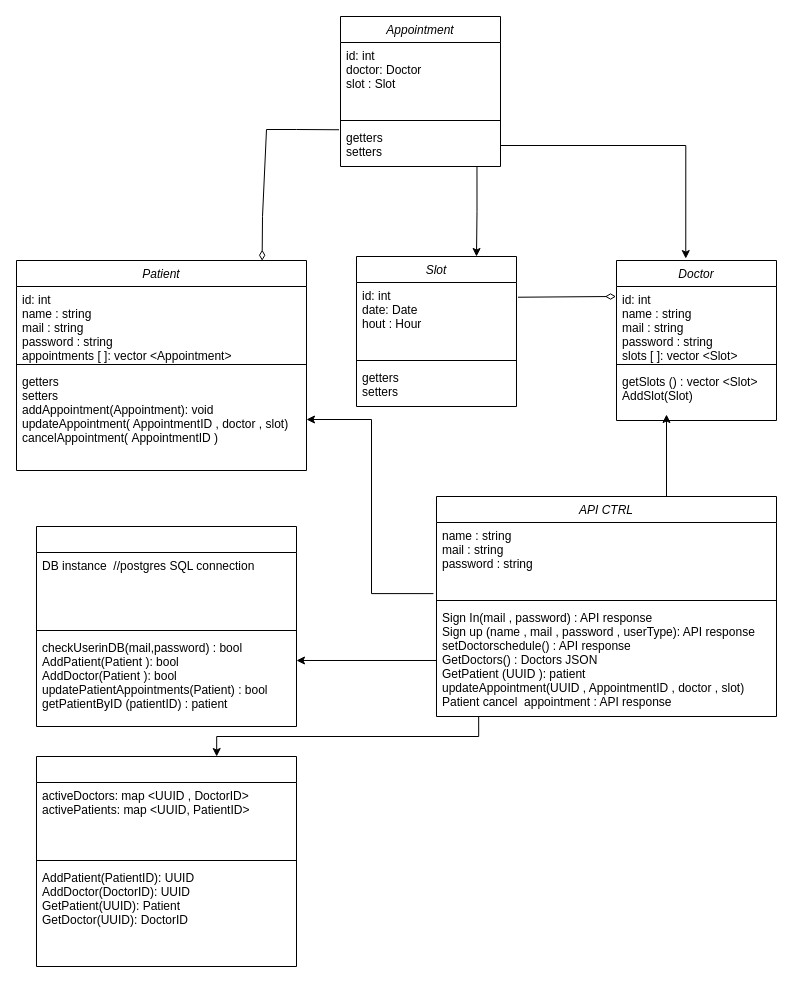
The diagram is 793 pixels wide and 983 high, and some of its shapes have lost their labels. The box of each missing label's shape, as (x1, y1, x2, y2) in pixels:
Active DB: (36, 756, 296, 966)
DB CTRL: (36, 526, 296, 726)
